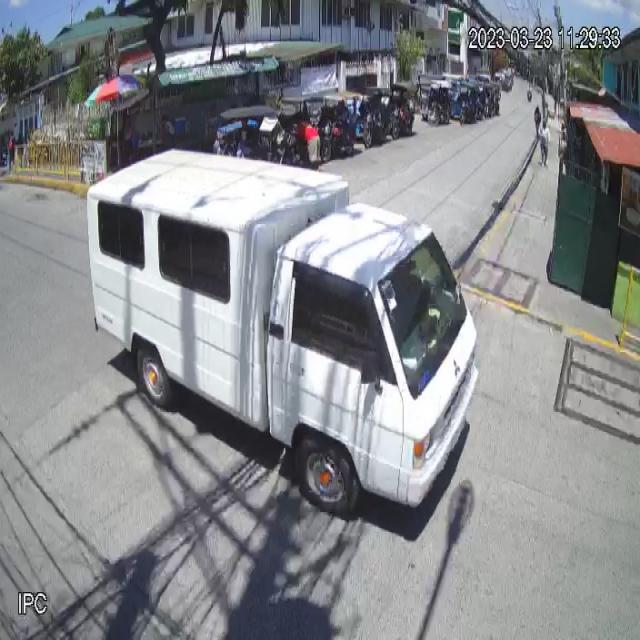Van: (86, 146, 482, 526)
